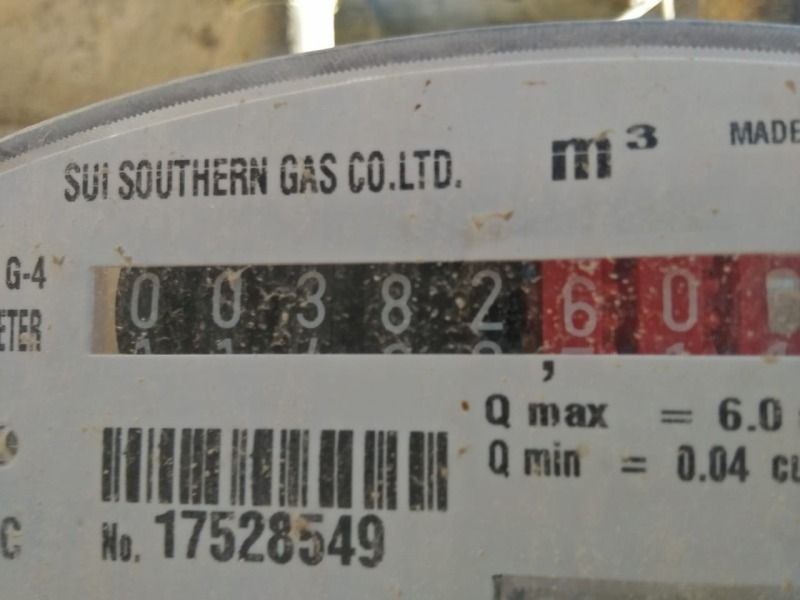ssgc: (80, 254, 796, 364)
